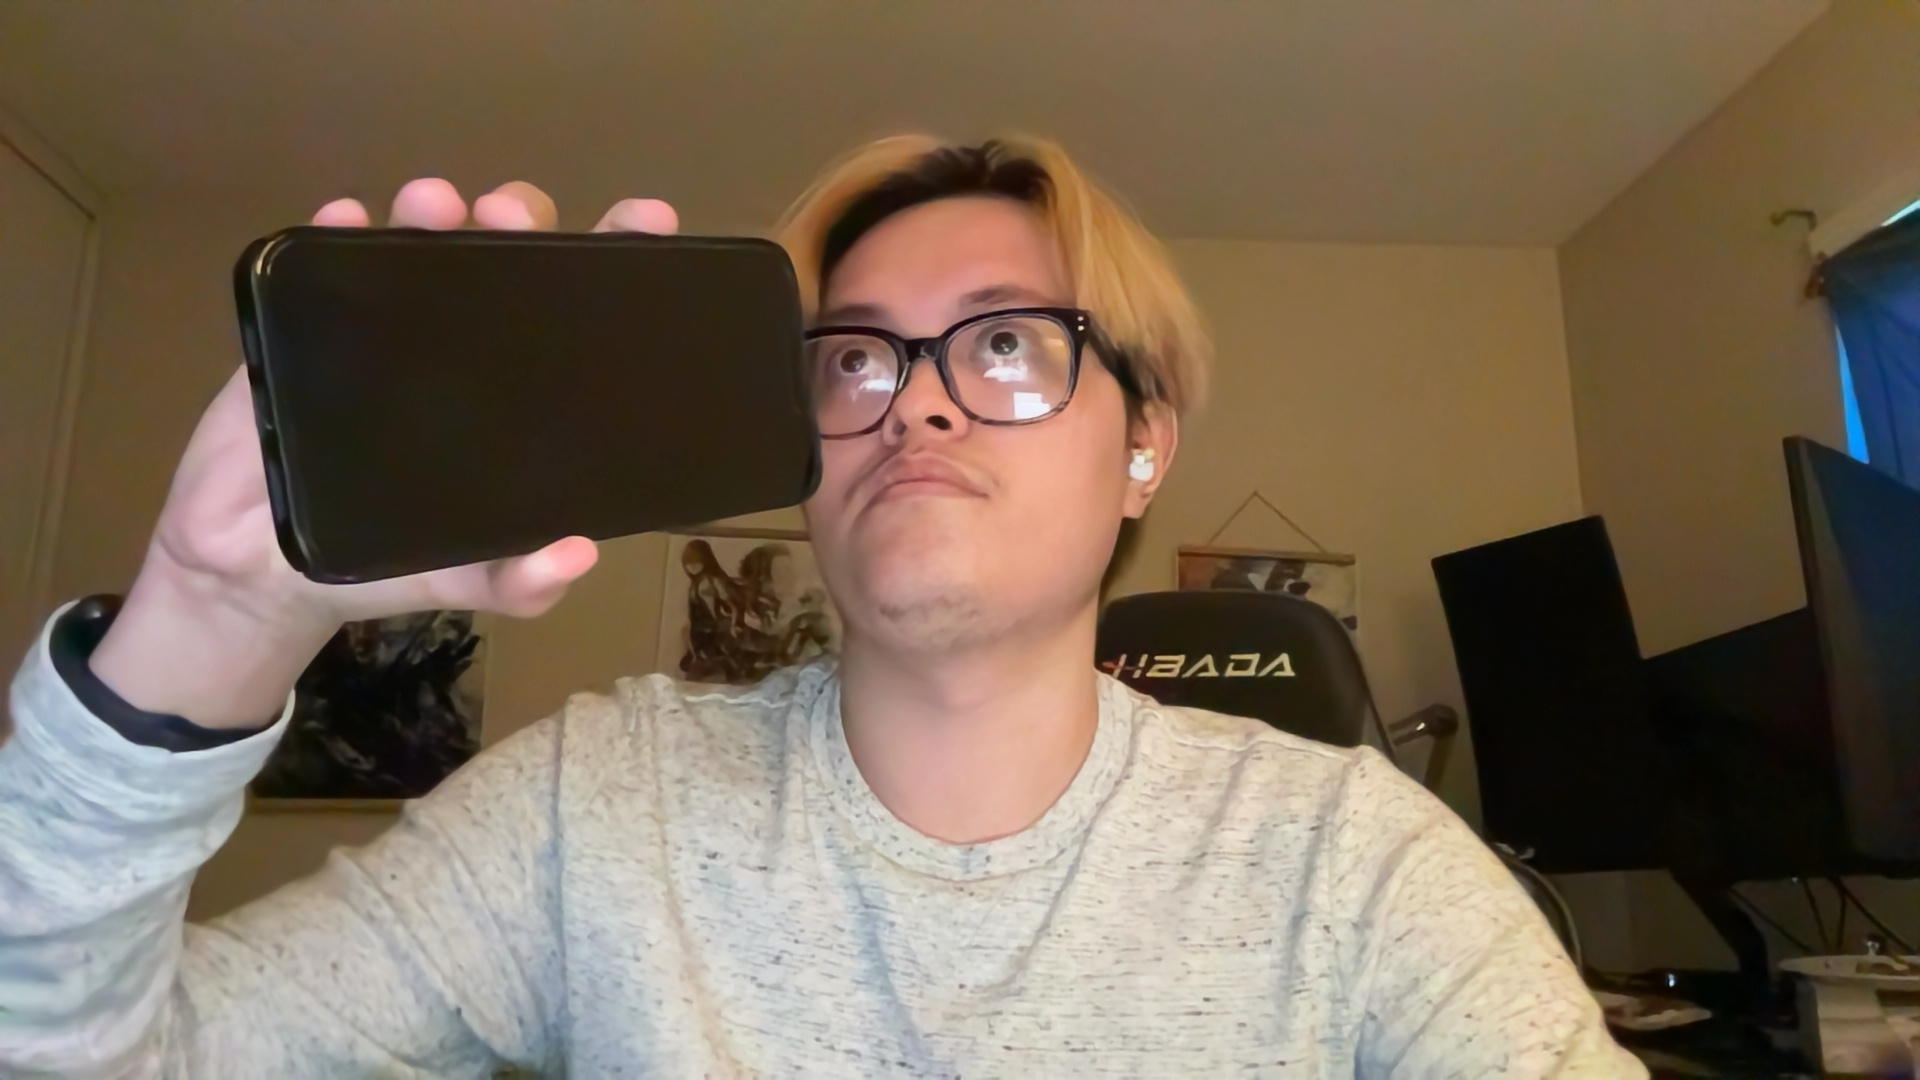phone: (220, 199, 829, 595)
